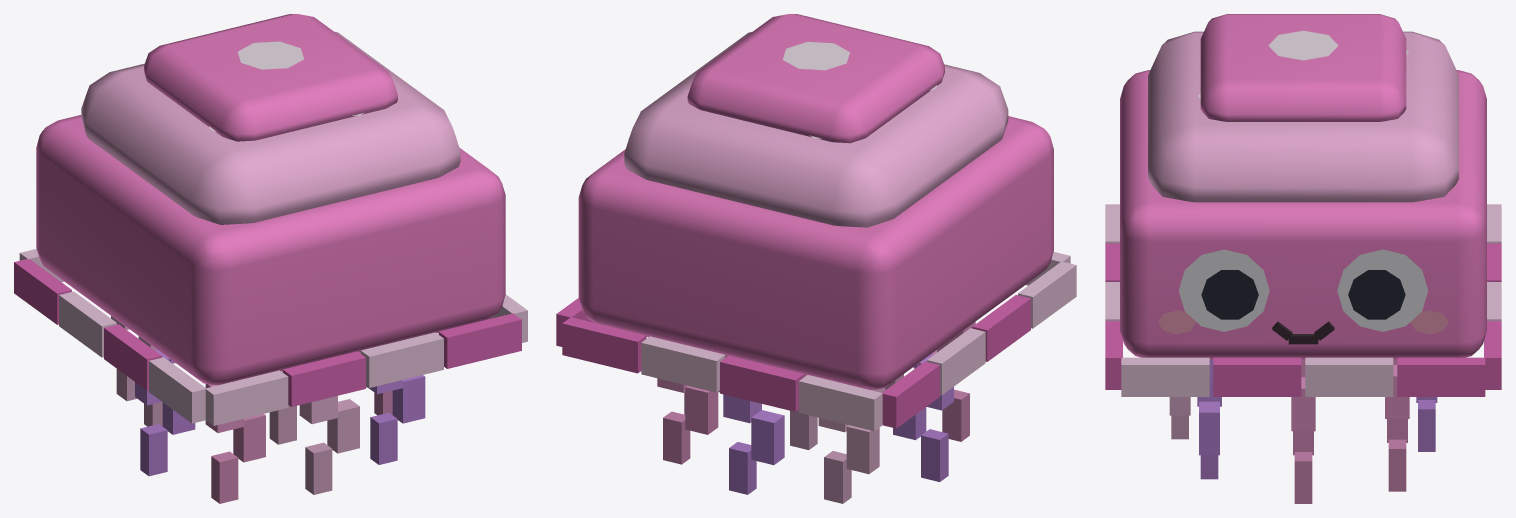
The model's file is jellyfish.glb.
The picture shows the model from 3 angles, left to right: view 1: azimuth 30°, elevation 25°; view 2: azimuth 150°, elevation 25°; view 3: azimuth 270°, elevation 25°; orthographic projection. The views are drawn at different scales.
Visible parts, largest first — view 1: body, tentacles; view 2: body, tentacles; view 3: body, tentacles.
Boxes of the visible parts, x1,y1,x2,y2 form: body: (14, 14, 527, 425); tentacles: (111, 316, 425, 503); body: (556, 14, 1076, 431); tentacles: (657, 322, 975, 503); body: (1105, 14, 1501, 396); tentacles: (1169, 359, 1437, 503).
Size of the model in its own units: 1.35 by 1.49 by 1.35.
